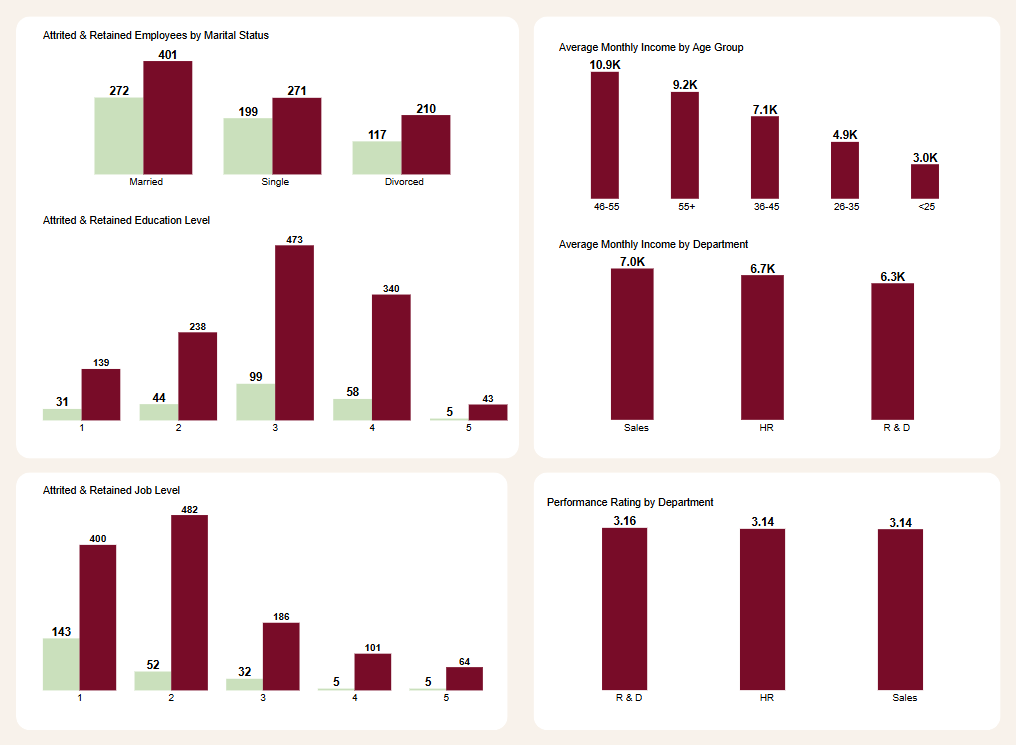

The dashboard page shown, as its layout file describes it:
{"tool":"powerbi","page":{"name":"Page 2","canvas":[4000,2944],"ordinal":1},"visuals":[{"type":"shape","box":[96,1872,1920,1008],"z":0},{"type":"shape","box":[2112,96,1824,1728],"z":1000},{"type":"shape","box":[96,96,1964,1728],"z":2000},{"type":"clusteredColumnChart","title":"Attrited & Retained Education Level","fields":{"Category":["HR-Employee-Attrition (1).Education"],"Y":["Measures (2).Attrited Employees","Measures (2).Current Employees"]},"box":[192,864,1824,864],"z":3000},{"type":"shape","box":[2112,1872,1824,1008],"z":4000},{"type":"clusteredColumnChart","title":"Attrited & Retained Employees by Marital Status","fields":{"Y":["Measures (2).Total Employee"],"Category":["HR-Employee-Attrition (1).MaritalStatus"],"Series":["HR-Employee-Attrition (1).Gender"]},"box":[192,144,1824,624],"z":5000},{"type":"columnChart","title":" Performance Rating by Department","fields":{"Category":["HR-Employee-Attrition (1).Department"],"Y":["Avg(HR-Employee-Attrition (1).PerformanceRating)"]},"box":[2160,1968,1728,816],"z":6000},{"type":"columnChart","title":"Average Monthly Income by Department","fields":{"Category":["HR-Employee-Attrition (1).Department"],"Y":["Avg(HR-Employee-Attrition (1).MonthlyIncome)"]},"box":[2208,960,1632,768],"z":7000},{"type":"clusteredColumnChart","title":"Average Monthly Income by Age Group","fields":{"Category":["HR-Employee-Attrition (1).Age Group"],"Y":["Avg(HR-Employee-Attrition (1).MonthlyIncome)"]},"box":[2208,192,1632,672],"z":8000},{"type":"clusteredColumnChart","title":"Attrited & Retained Job Level","fields":{"Category":["HR-Employee-Attrition (1).JobLevel"],"Y":["Measures (2).Attrited Employees","Measures (2).Current Employees"]},"box":[192,1920,1728,864],"z":9001}]}

Visuals, with their boxes in screenshot pixels (x1, y1, x2, y2), scaled from the page's 4000x2944 canvas onto the 1016x745 screenshot:
shape: (x1=24, y1=474, x2=512, y2=729)
shape: (x1=536, y1=24, x2=1000, y2=462)
shape: (x1=24, y1=24, x2=523, y2=462)
"Attrited & Retained Education Level" clusteredColumnChart: (x1=49, y1=219, x2=512, y2=437)
shape: (x1=536, y1=474, x2=1000, y2=729)
"Attrited & Retained Employees by Marital Status" clusteredColumnChart: (x1=49, y1=36, x2=512, y2=194)
" Performance Rating by Department" columnChart: (x1=549, y1=498, x2=988, y2=705)
"Average Monthly Income by Department" columnChart: (x1=561, y1=243, x2=975, y2=437)
"Average Monthly Income by Age Group" clusteredColumnChart: (x1=561, y1=49, x2=975, y2=219)
"Attrited & Retained Job Level" clusteredColumnChart: (x1=49, y1=486, x2=488, y2=705)
